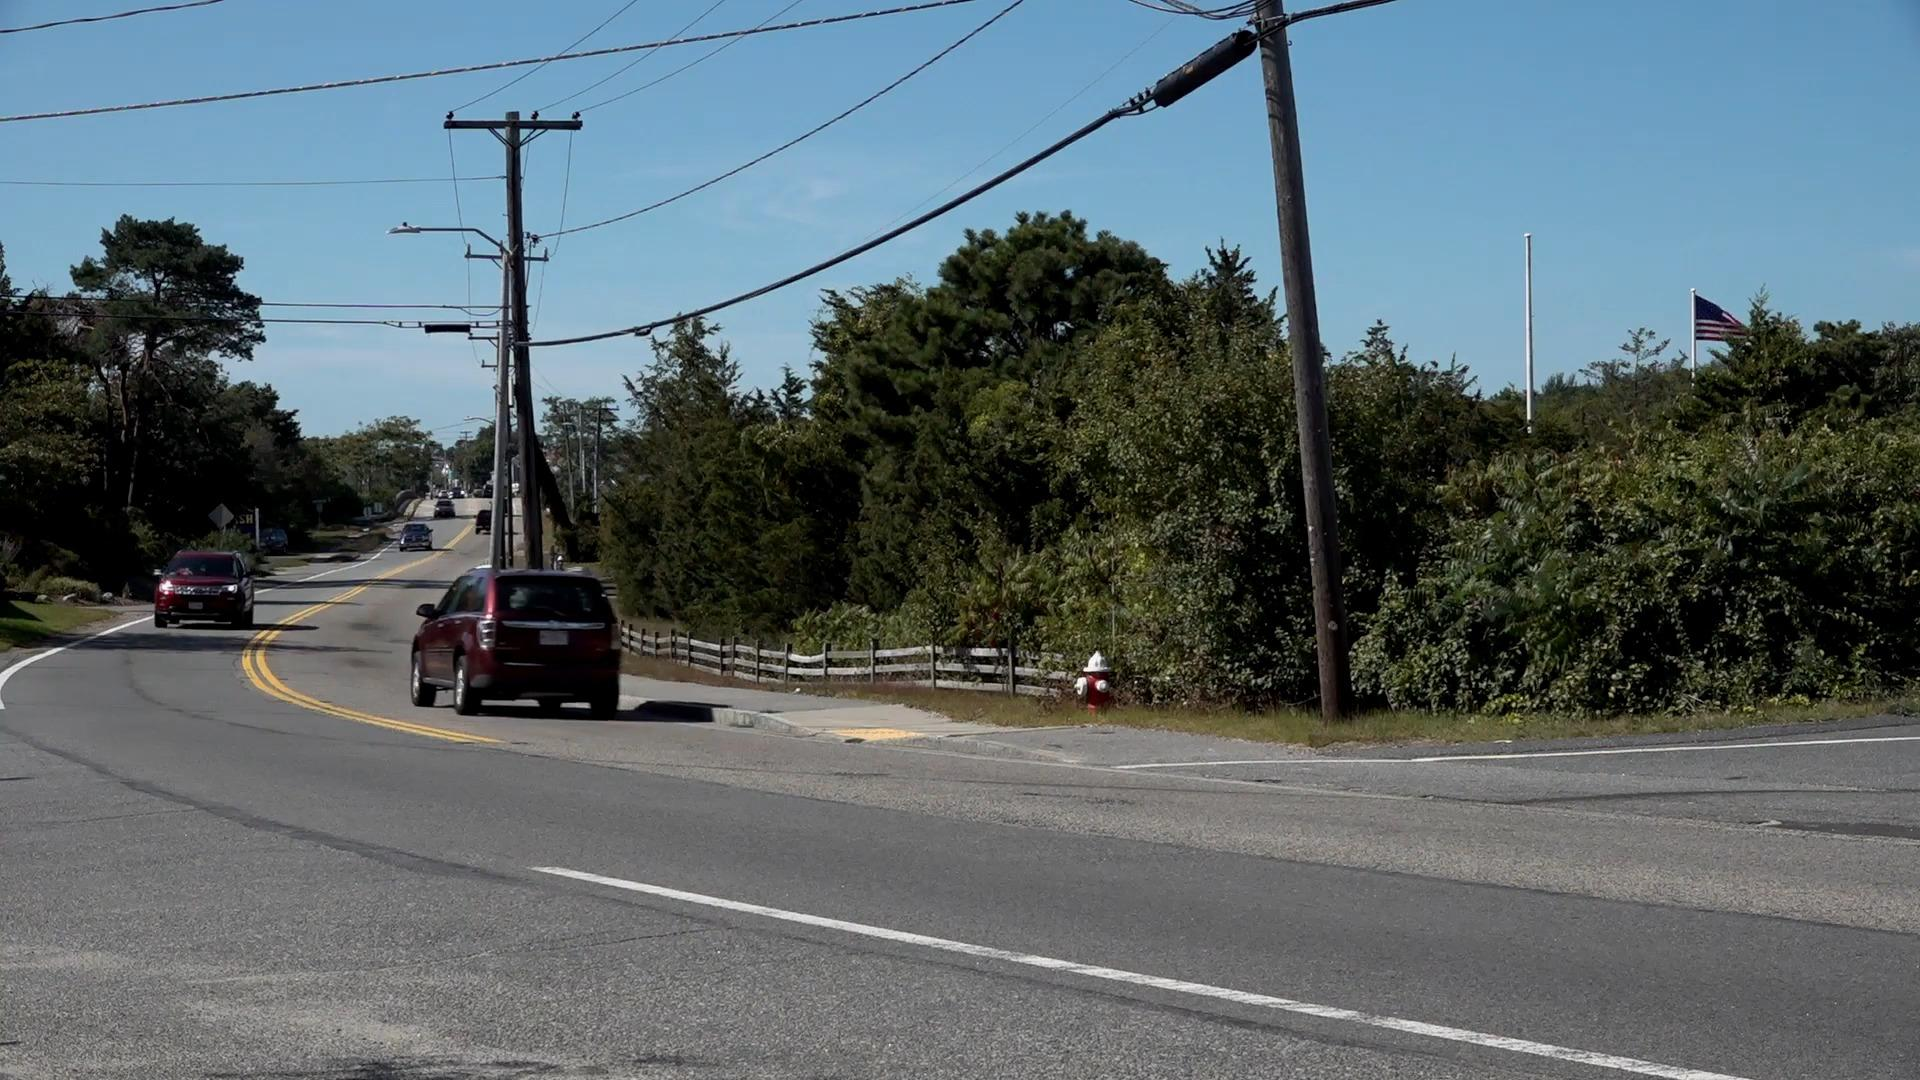suv: (413, 570, 622, 716), (156, 551, 256, 628)
